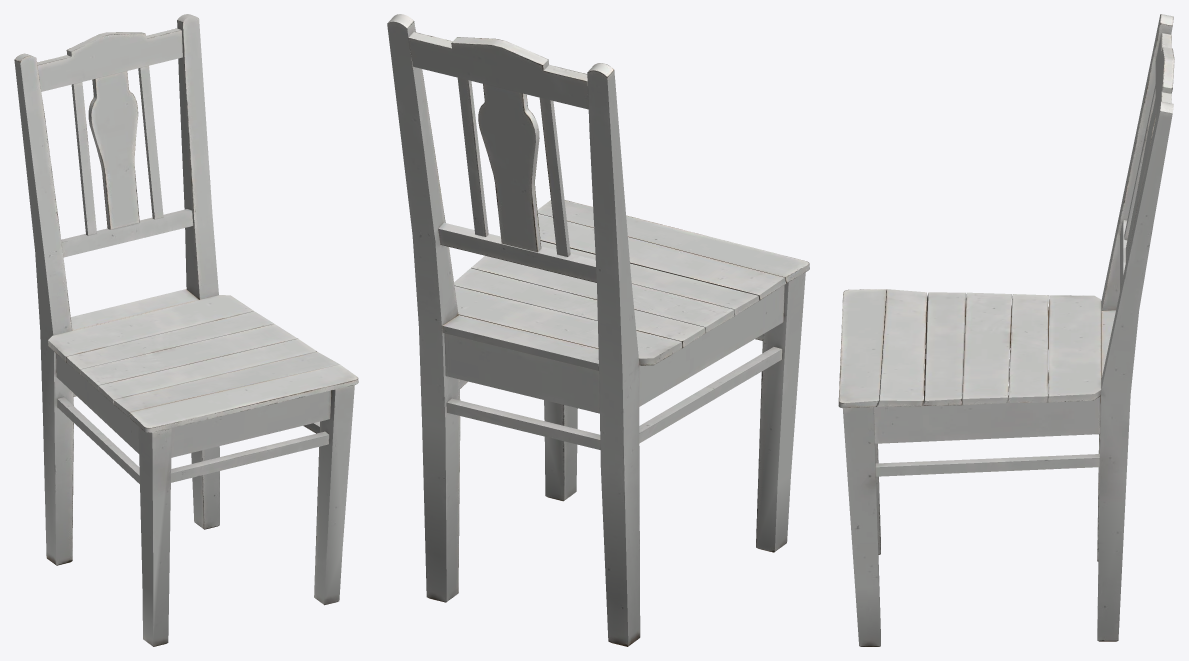
The model's file is painted_wooden_chair_01.glb.
The picture shows the model from 3 angles, left to right: view 1: azimuth 30°, elevation 25°; view 2: azimuth 150°, elevation 25°; view 3: azimuth 270°, elevation 25°; orthographic projection. The views are drawn at different scales.
Visible parts, largest first — view 1: painted_wooden_chair_01; view 2: painted_wooden_chair_01; view 3: painted_wooden_chair_01.
Boxes of the visible parts, left/top/right/bottom form: painted_wooden_chair_01: left=14, top=14, right=358, bottom=646; painted_wooden_chair_01: left=387, top=14, right=809, bottom=646; painted_wooden_chair_01: left=838, top=14, right=1174, bottom=646.
Size of the model in its own units: 0.4316 by 0.9558 by 0.5397.
Materials: 1 (1 with a texture image).
